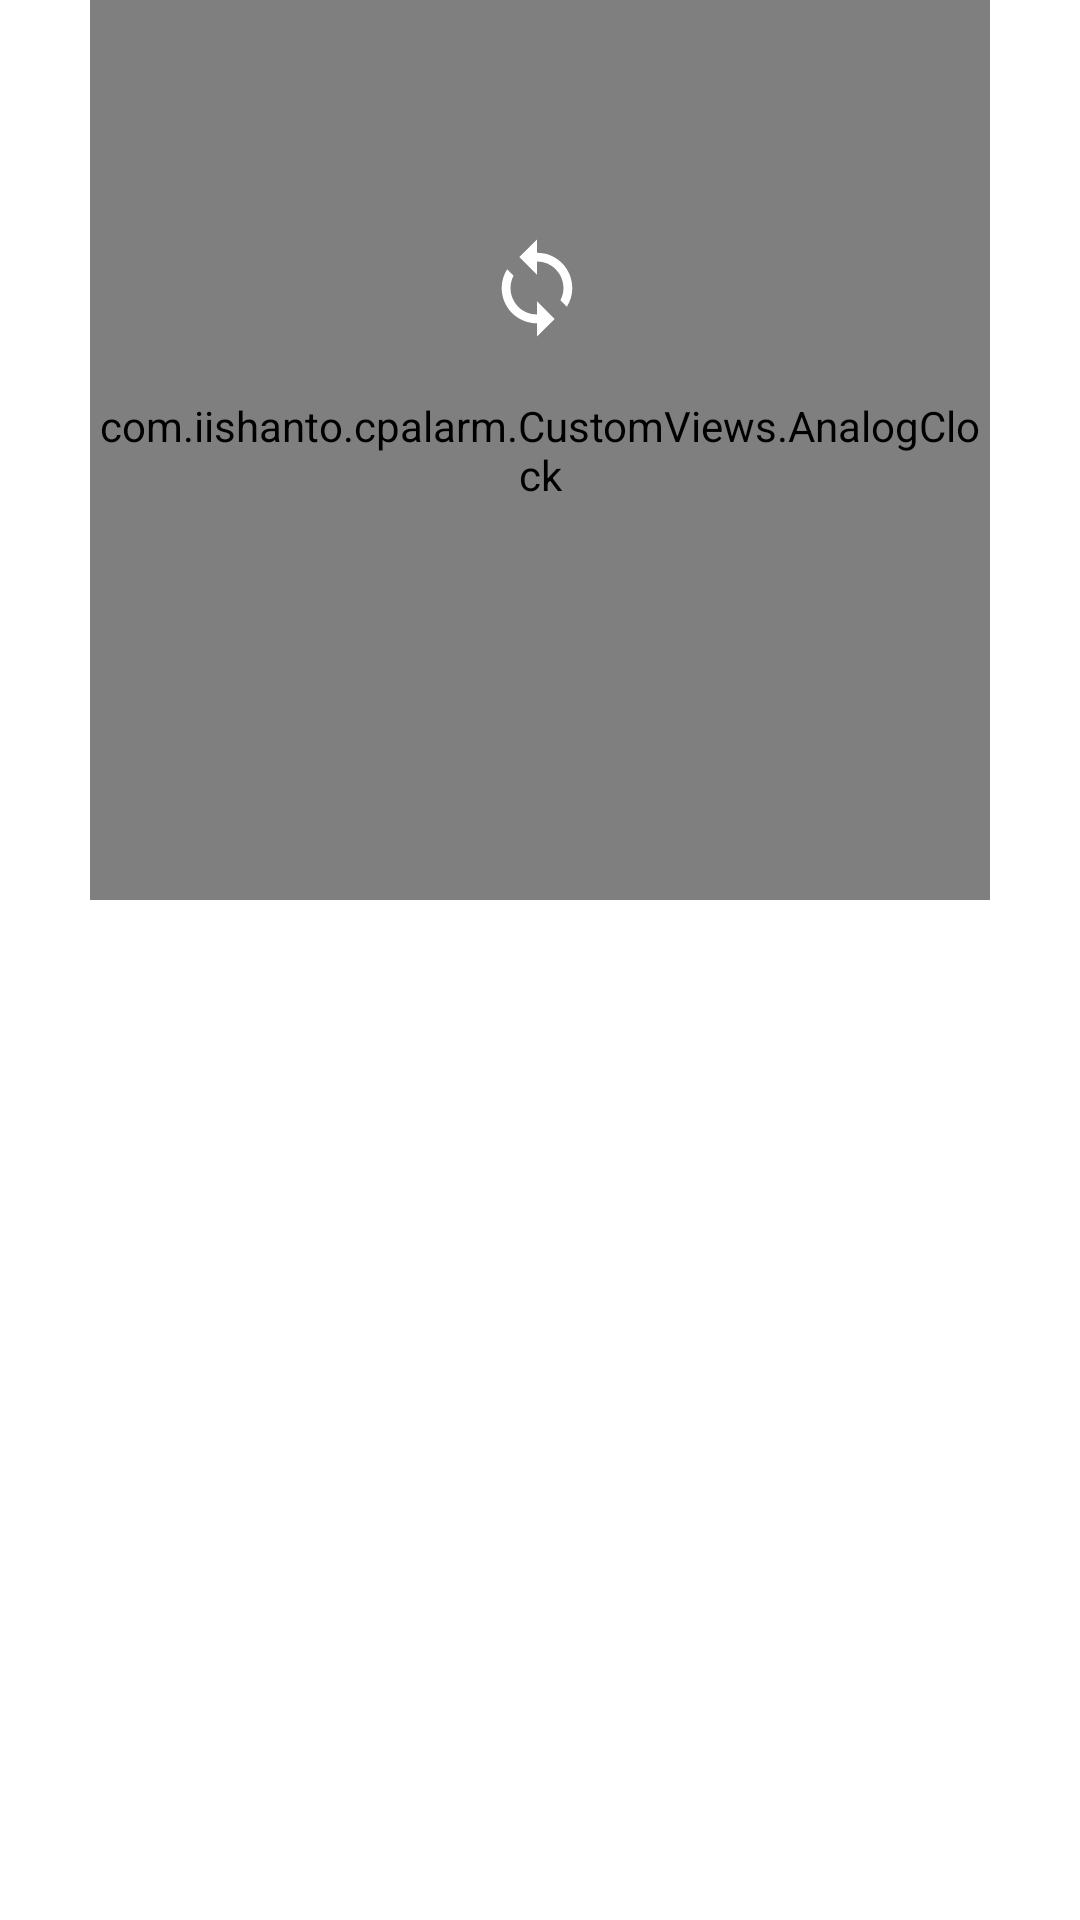

Icons on this 1080 × 1920 Android screen, each with its box as (x1, y1, x2, y2):
reload: (501, 240, 573, 336)
